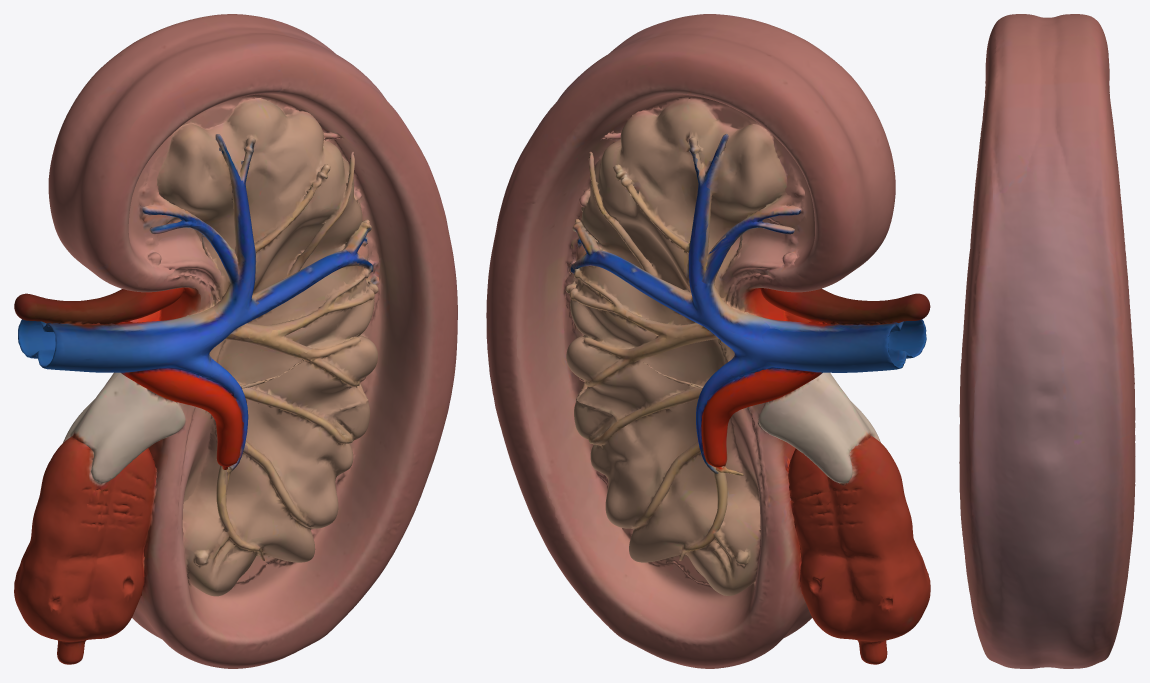
File: kidney-section.glb
3 renders of one model, left to right at view 1: azimuth 30°, elevation 25°; view 2: azimuth 150°, elevation 25°; view 3: azimuth 270°, elevation 25°, orthographic. The views are drawn at different scales.
Parts seen in each view (by area): view 1: kidney; view 2: kidney; view 3: kidney.
Part boxes in pixels (x1,y1,x2,y2): kidney: (14,14,457,668); kidney: (486,14,930,668); kidney: (959,14,1135,668).
Bounding box in the file's own units: 0.3194 × 0.4545 × 0.1185.
Materials: 1 (1 with a texture image).
